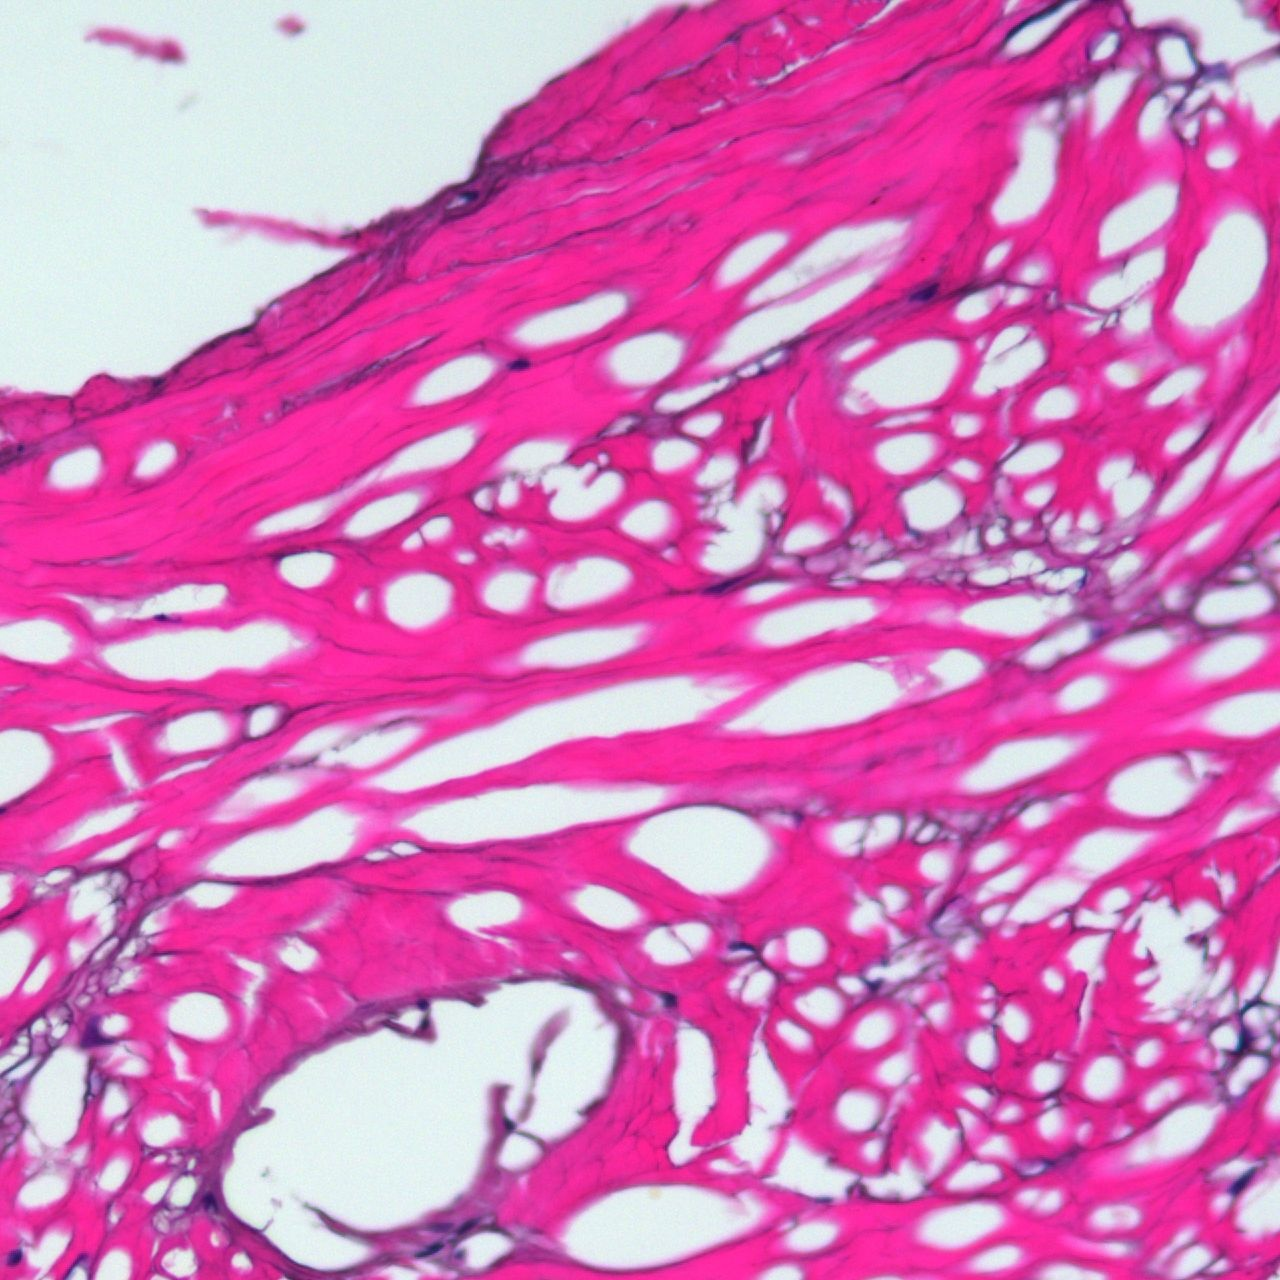nucleus-HE: (1227, 1165, 1258, 1197), (908, 280, 941, 307), (411, 1240, 443, 1261), (456, 1216, 477, 1235), (1235, 1030, 1250, 1054), (6, 1250, 22, 1266), (509, 358, 529, 369), (501, 1115, 516, 1130), (203, 1192, 216, 1208), (662, 992, 676, 1006), (418, 1017, 429, 1029), (417, 998, 427, 1009), (154, 614, 166, 620)
